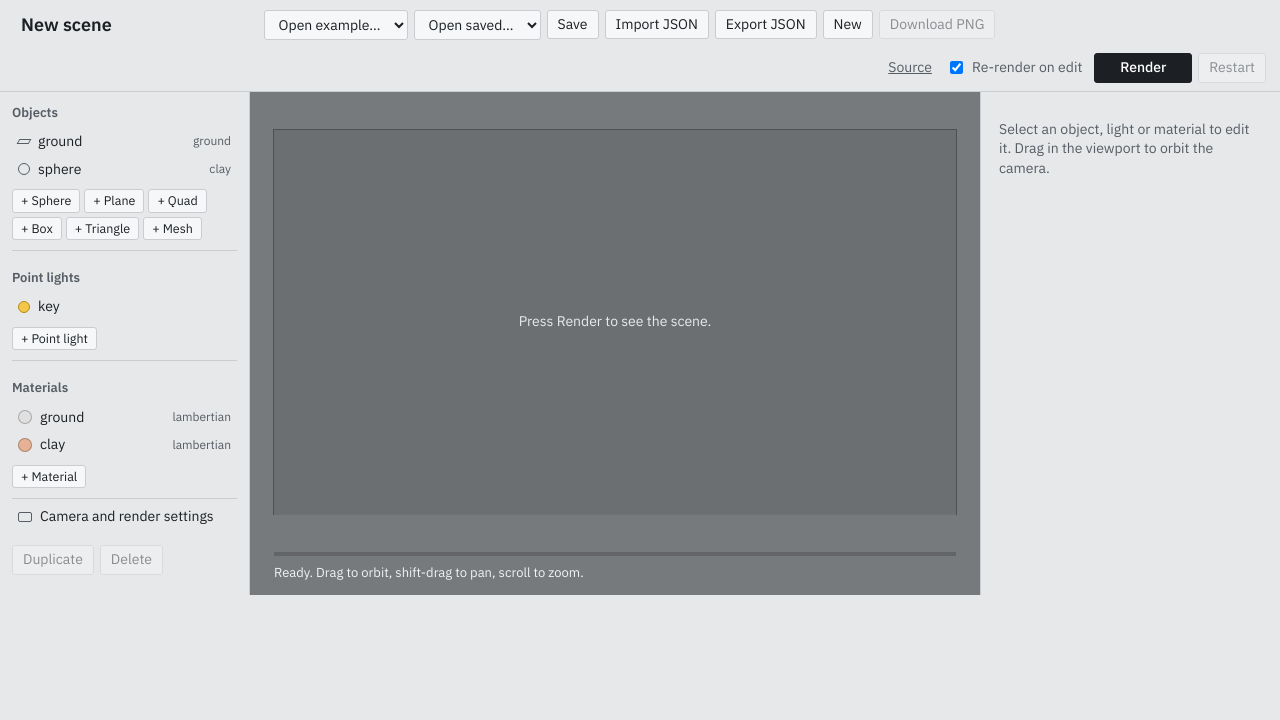
Test: scene editor › refuses to delete a material that is in use
Click the button "clay lambertian".
click(124, 445)  # box top-left (12, 431), bottom-right (237, 459)
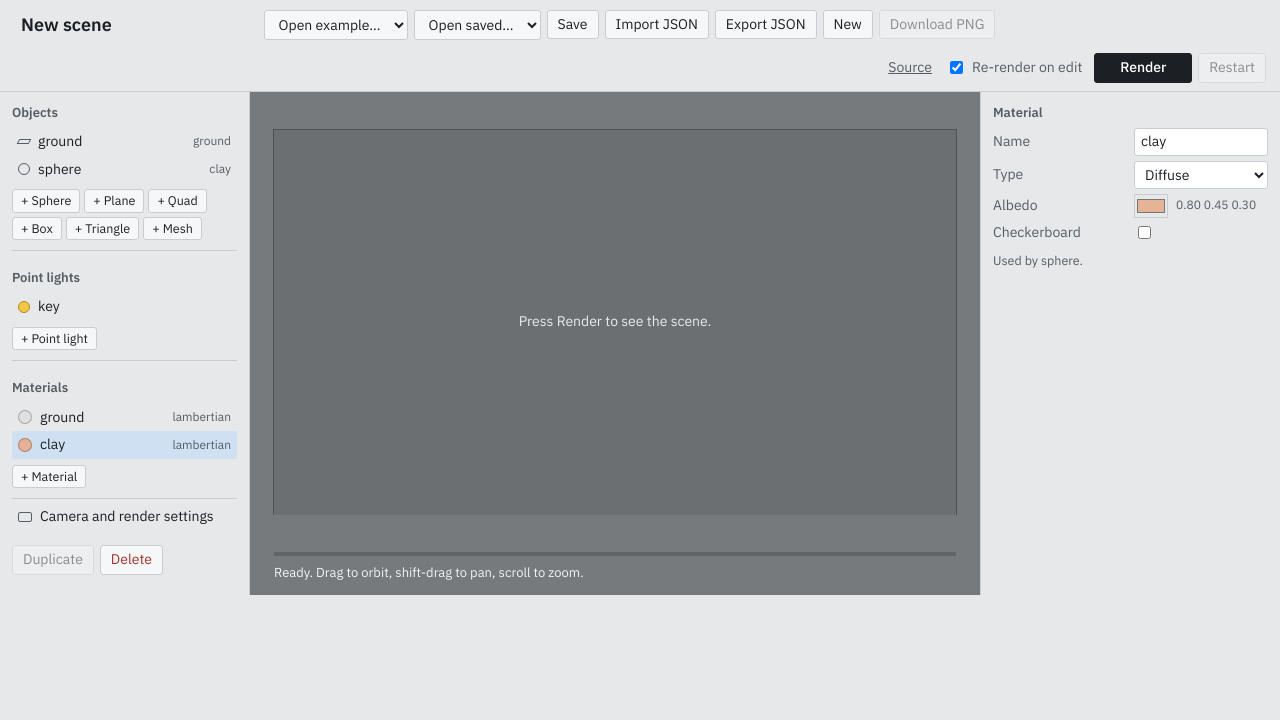
Click the button "Delete".
click(131, 560)  # box top-left (100, 545), bottom-right (163, 574)
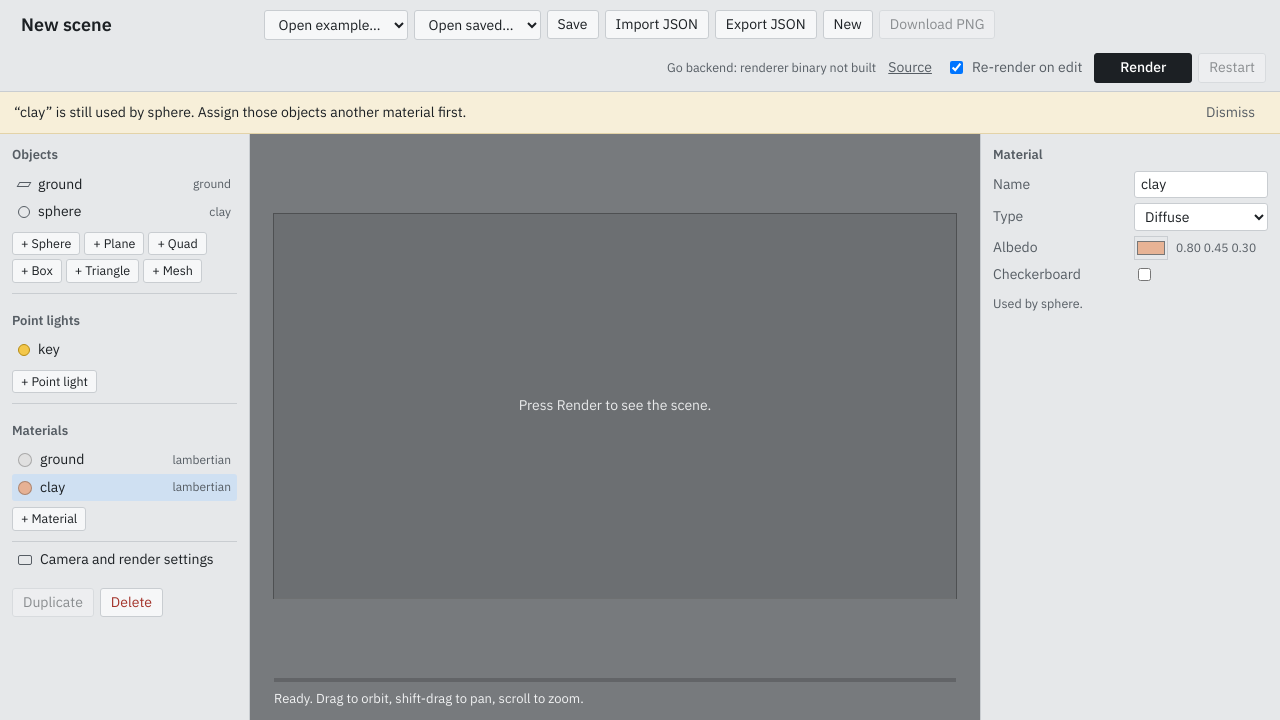
Expected: the button "clay lambertian" is shown, top-left (12, 474), bottom-right (237, 501)
Now the message shows "still used by sphere", box top-left (14, 103), bottom-right (466, 121)
